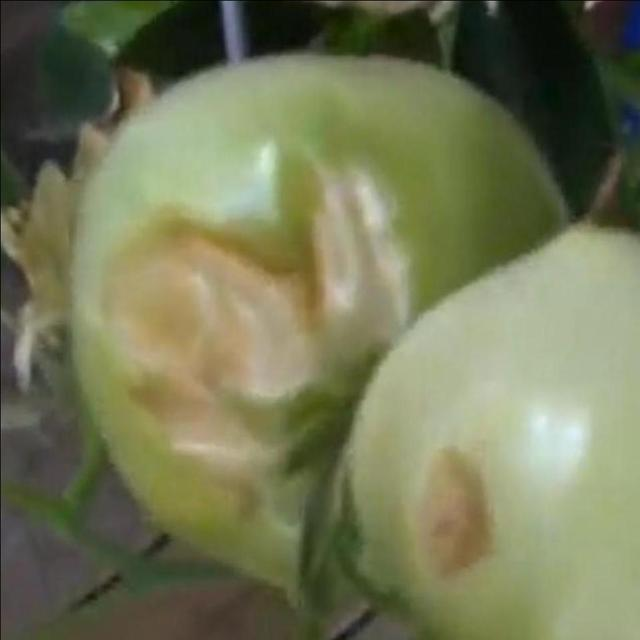Sunscald Fruit: (70, 114, 302, 340)
